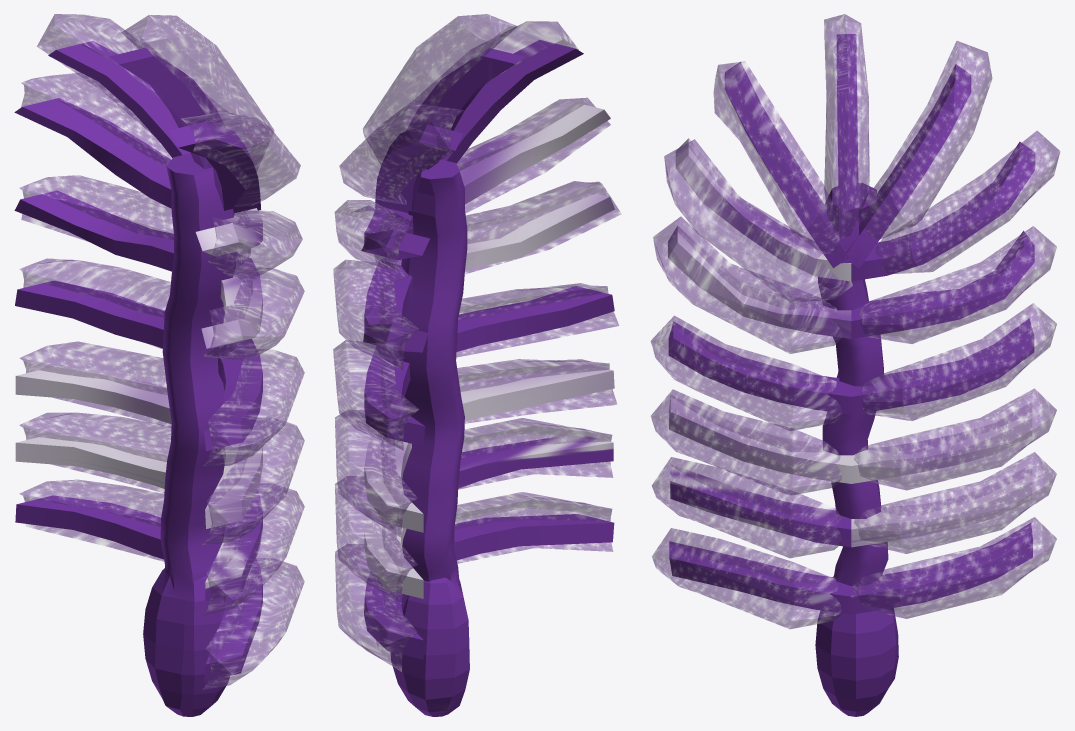
The model's file is sea_pen.fbx.
3 renders of one model, left to right at view 1: azimuth 30°, elevation 25°; view 2: azimuth 150°, elevation 25°; view 3: azimuth 270°, elevation 25°, orthographic. The views are drawn at different scales.
Parts seen in each view (by area): view 1: sea_pen1; view 2: sea_pen1; view 3: sea_pen1.
Part boxes in pixels (bbox=[...]): sea_pen1: bbox=[14, 14, 304, 716]; sea_pen1: bbox=[333, 14, 621, 716]; sea_pen1: bbox=[650, 14, 1060, 716].
Bounding box in the file's own units: 0.2871 × 1.15 × 0.6276.
Materials: 2 (2 with a texture image).
